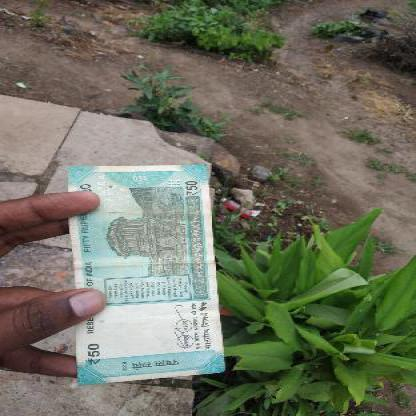New50Back: (64, 166, 219, 374)
